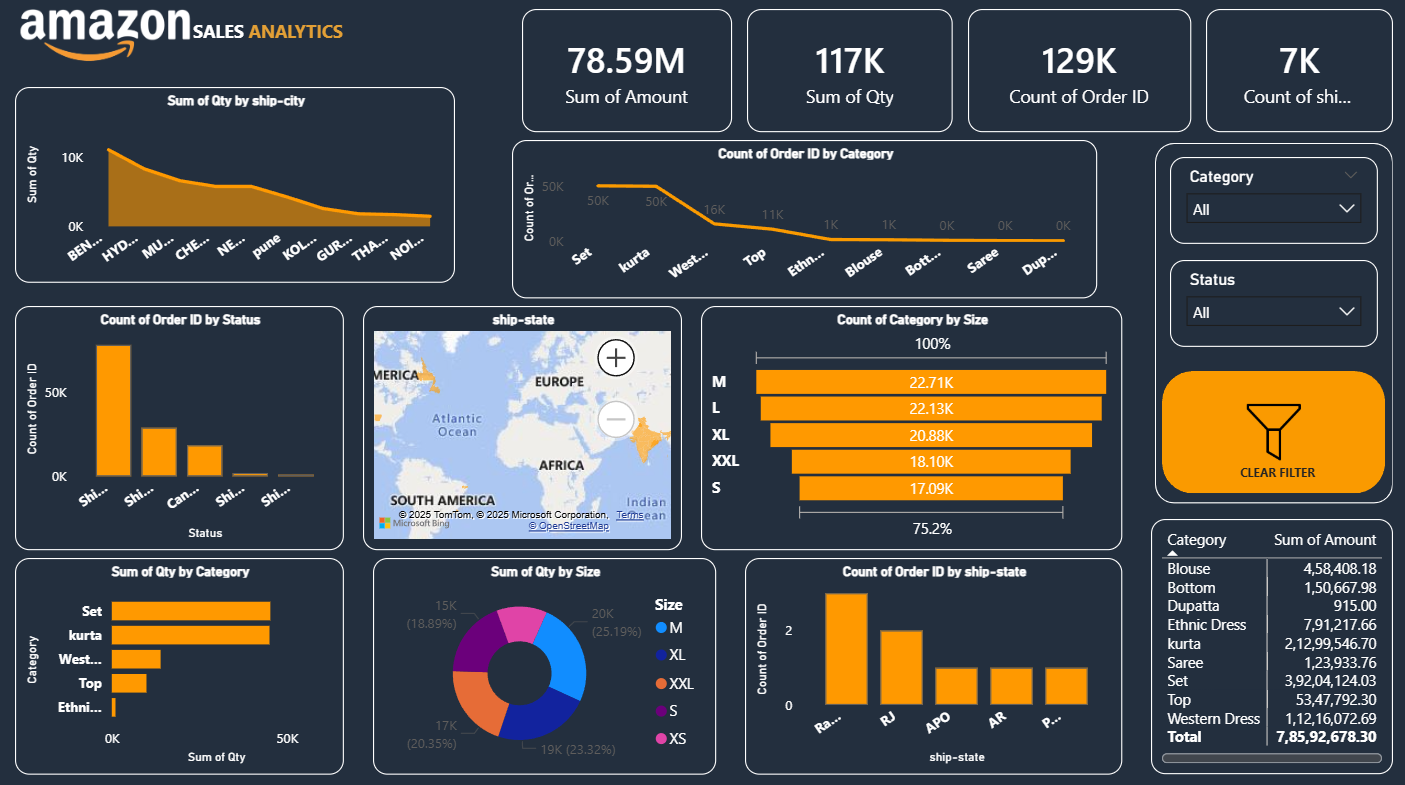

This screenshot's page, from the dashboard's own definition file:
{"tool":"powerbi","page":{"name":"Page 1","canvas":[1280,720],"ordinal":0},"visuals":[{"type":"clusteredColumnChart","fields":{"Y":["CountNonNull(DATASET.Order ID)"],"Category":["DATASET.ship-state"]},"box":[680.2,509,342.9,196.6],"z":0},{"type":"areaChart","fields":{"Category":["DATASET.ship-city"],"Y":["Sum(DATASET.Qty)"]},"box":[16.2,80.7,400.4,177.8],"z":1000},{"type":"clusteredColumnChart","fields":{"Category":["DATASET.Status"],"Y":["CountNonNull(DATASET.Order ID)"]},"box":[16.4,280,299.1,221.8],"z":2000},{"type":"pivotTable","fields":{"Rows":["DATASET.Category"],"Values":["Sum(DATASET.Amount)"]},"box":[1049.5,474,220,231.6],"z":3000},{"type":"barChart","fields":{"Category":["DATASET.Category"],"Y":["Sum(DATASET.Qty)"]},"box":[16.2,509,299,196.6],"z":4000},{"type":"shape","box":[1053.1,132,216.4,327.7],"z":5000},{"type":"cardVisual","fields":{"Data":["CountNonNull(DATASET.Order ID)"]},"box":[882.7,10,202.7,111.8],"z":6000},{"type":"cardVisual","fields":{"Data":["Count(DATASET.ship-city)"]},"box":[1099.1,10,170,111.8],"z":7000},{"type":"cardVisual","fields":{"Data":["Sum(DATASET.Qty)"]},"box":[681.8,10,187.3,111.8],"z":8000},{"type":"cardVisual","fields":{"Data":["Sum(DATASET.Amount)"]},"box":[477.3,10,190.9,111.8],"z":9000},{"type":"slicer","fields":{"Values":["DATASET.Category"]},"box":[1066.5,144.5,188.5,79],"z":10000},{"type":"slicer","fields":{"Values":["DATASET.Status"]},"box":[1066.5,237.9,188.5,79],"z":11000},{"type":"image","box":[16.2,9.9,166.1,56.6],"z":12000},{"type":"textbox","box":[166.1,14.4,159.8,33.2],"z":13000},{"type":"filledMap","fields":{"Category":["DATASET.ship-state"]},"box":[332.6,280,290,221.7],"z":14000},{"type":"donutChart","fields":{"Y":["Sum(DATASET.Qty)"],"Category":["DATASET.Size"]},"box":[341.4,509,312.4,196.6],"z":15000},{"type":"funnel","fields":{"Category":["DATASET.Size"],"Y":["CountNonNull(DATASET.Category)"]},"box":[640.1,280,383.3,221.7],"z":16000},{"type":"lineChart","fields":{"Y":["CountNonNull(DATASET.Order ID)"],"Category":["DATASET.Category"]},"box":[468.6,129.1,532.4,143.6],"z":17000},{"type":"shape","box":[1059.4,339.4,202.9,111.3],"z":18000},{"type":"image","box":[1132.3,363.3,56.1,62],"z":19000},{"type":"textbox","box":[1115.6,416.5,97.5,27.6],"z":20000}]}

Visuals, with their boxes in screenshot pixels (x1, y1, x2, y2), scaled from the page's 1280x720 canvas onto the 1405x785 screenshot:
clusteredColumnChart - CountNonNull(DATASET.Order ID) x DATASET.ship-state: pyautogui.locateOnScreen(747, 555, 1123, 769)
areaChart - DATASET.ship-city x Sum(DATASET.Qty): pyautogui.locateOnScreen(18, 88, 457, 282)
clusteredColumnChart - DATASET.Status x CountNonNull(DATASET.Order ID): pyautogui.locateOnScreen(18, 305, 346, 547)
pivotTable - DATASET.Category x Sum(DATASET.Amount): pyautogui.locateOnScreen(1152, 517, 1393, 769)
barChart - DATASET.Category x Sum(DATASET.Qty): pyautogui.locateOnScreen(18, 555, 346, 769)
shape: pyautogui.locateOnScreen(1156, 144, 1393, 501)
cardVisual - CountNonNull(DATASET.Order ID): pyautogui.locateOnScreen(969, 11, 1191, 133)
cardVisual - Count(DATASET.ship-city): pyautogui.locateOnScreen(1206, 11, 1393, 133)
cardVisual - Sum(DATASET.Qty): pyautogui.locateOnScreen(748, 11, 954, 133)
cardVisual - Sum(DATASET.Amount): pyautogui.locateOnScreen(524, 11, 733, 133)
slicer - DATASET.Category: pyautogui.locateOnScreen(1171, 158, 1378, 244)
slicer - DATASET.Status: pyautogui.locateOnScreen(1171, 259, 1378, 346)
image: pyautogui.locateOnScreen(18, 11, 200, 73)
textbox: pyautogui.locateOnScreen(182, 16, 358, 52)
filledMap - DATASET.ship-state: pyautogui.locateOnScreen(365, 305, 683, 547)
donutChart - Sum(DATASET.Qty) x DATASET.Size: pyautogui.locateOnScreen(375, 555, 718, 769)
funnel - DATASET.Size x CountNonNull(DATASET.Category): pyautogui.locateOnScreen(703, 305, 1123, 547)
lineChart - CountNonNull(DATASET.Order ID) x DATASET.Category: pyautogui.locateOnScreen(514, 141, 1099, 297)
shape: pyautogui.locateOnScreen(1163, 370, 1386, 491)
image: pyautogui.locateOnScreen(1243, 396, 1304, 464)
textbox: pyautogui.locateOnScreen(1225, 454, 1332, 484)
